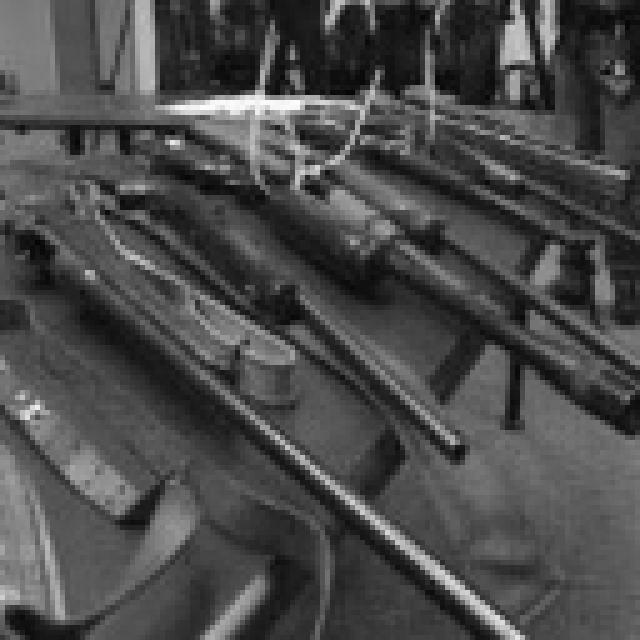Rifle: (0, 195, 528, 640), (175, 115, 640, 470), (77, 132, 481, 492), (252, 34, 605, 373), (320, 0, 640, 280)
